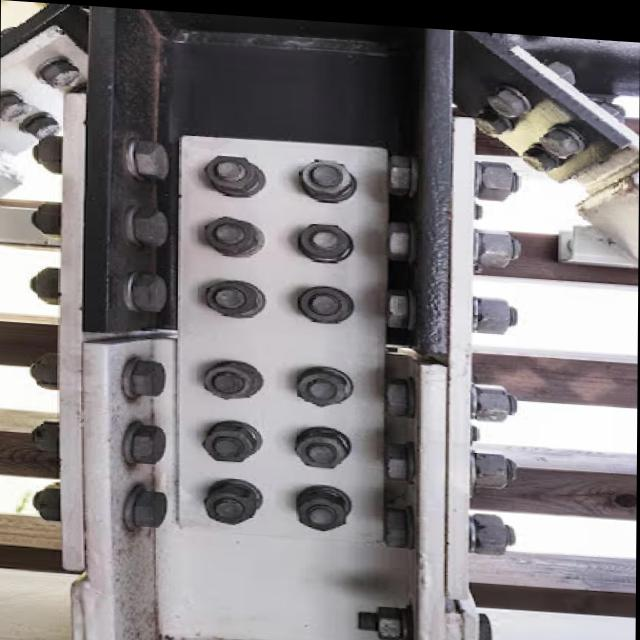Regular bolt: (291, 475, 355, 534), (200, 412, 264, 467), (199, 353, 264, 406), (288, 416, 354, 465), (201, 478, 263, 528), (292, 358, 356, 406), (294, 277, 356, 325), (299, 152, 357, 203), (202, 274, 266, 319), (201, 150, 261, 197), (206, 208, 270, 252), (300, 216, 352, 263)
